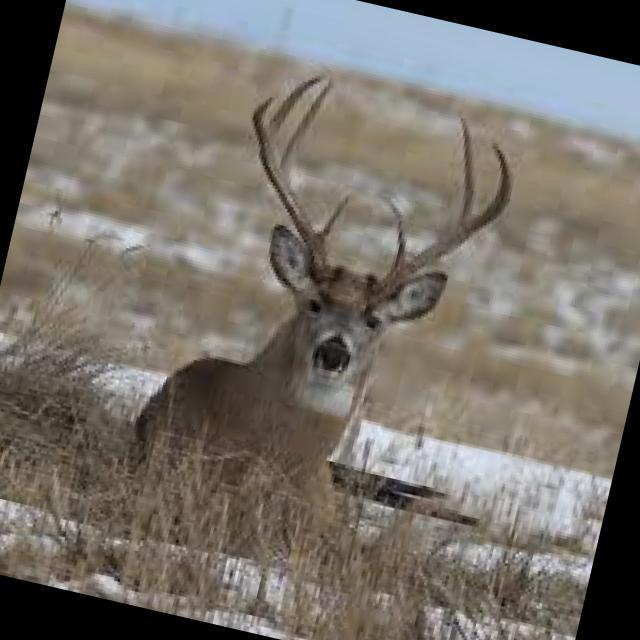L-F: (379, 141, 514, 297)
L-G1: (389, 198, 405, 271)
L-G2: (455, 115, 476, 233)
R-F: (250, 95, 332, 279)
R-G1: (316, 194, 351, 244)
R-G2: (278, 77, 337, 187)
